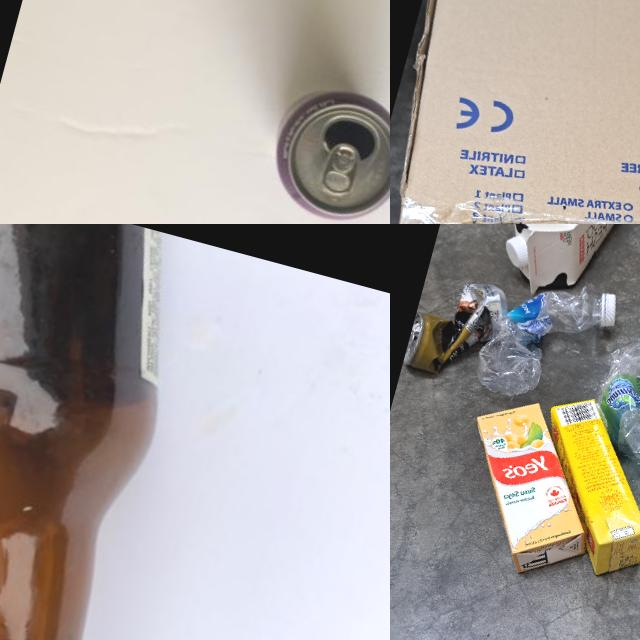aba de lata: (313, 139, 364, 201), (406, 321, 421, 353)
caixinha: (440, 388, 614, 586), (514, 387, 640, 586), (489, 224, 640, 315)
garrafa de vidro: (0, 224, 203, 640)
garrafa plástica: (469, 265, 618, 417), (583, 334, 640, 489)
lata: (256, 73, 390, 224), (402, 267, 511, 389)
papelão: (390, 0, 640, 224)
tampa plástica: (498, 234, 534, 272), (591, 291, 621, 327)
